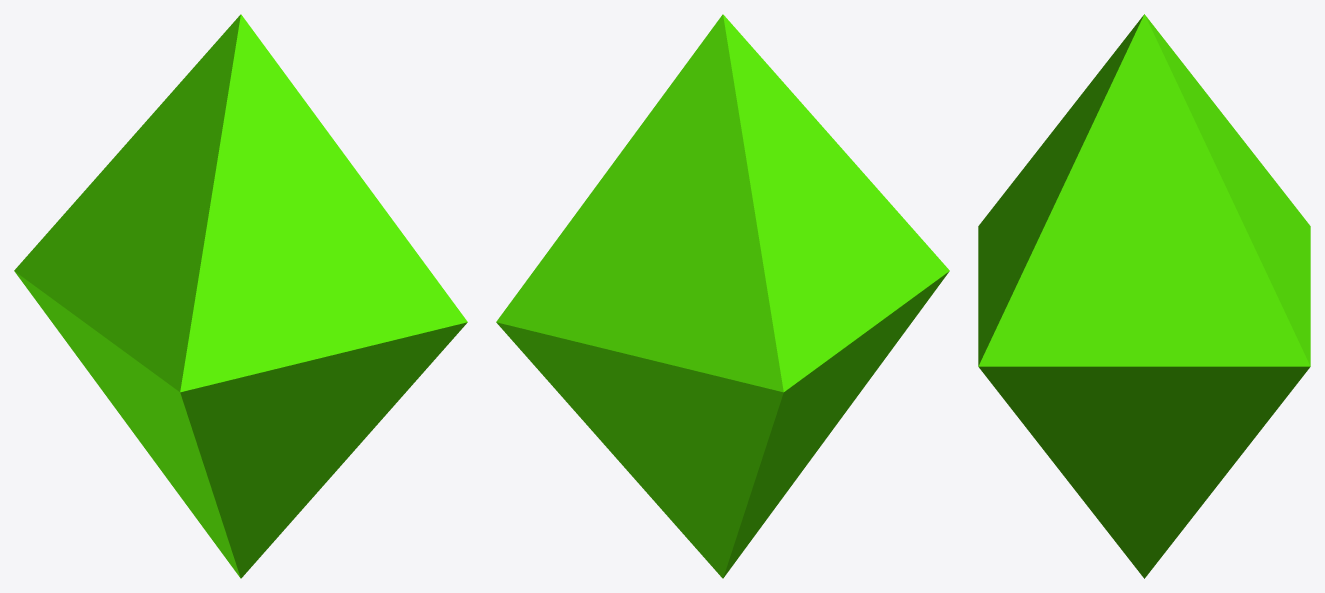
File: Exp.fbx
3 views of the same model, side by side, from view 1: azimuth 30°, elevation 25°; view 2: azimuth 150°, elevation 25°; view 3: azimuth 270°, elevation 25° (orthographic).
Parts seen in each view (by area): view 1: Plane; view 2: Plane; view 3: Plane.
Boxes of the visible parts, box(x1,y1,x2,y2) form: Plane: box(14, 14, 467, 578); Plane: box(496, 14, 949, 578); Plane: box(978, 14, 1310, 578).
Size of the model in its own units: 200 by 375 by 200.
